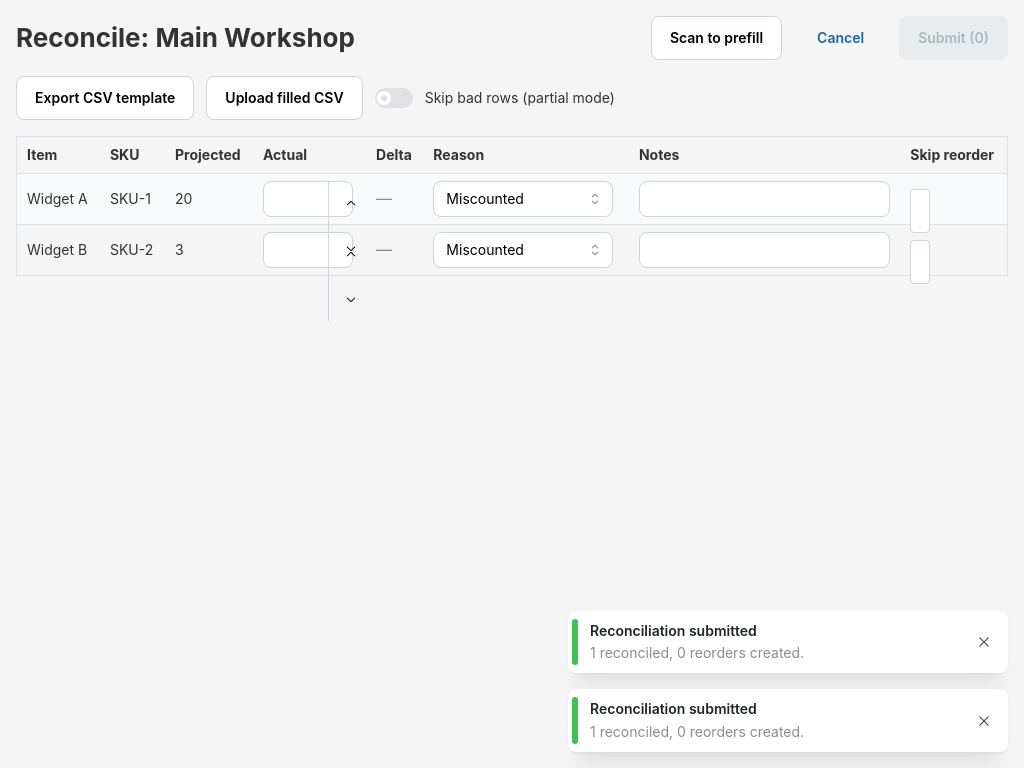
Test case: InventoryReconciliationPage › surfaces an error and keeps counts when the submit fails offline
Check: the text "Widget A" is shown, box [16,173,100,224]
Type "18" into the field named "Actual count for Widget A" at (308, 199), box [263,181,353,217]
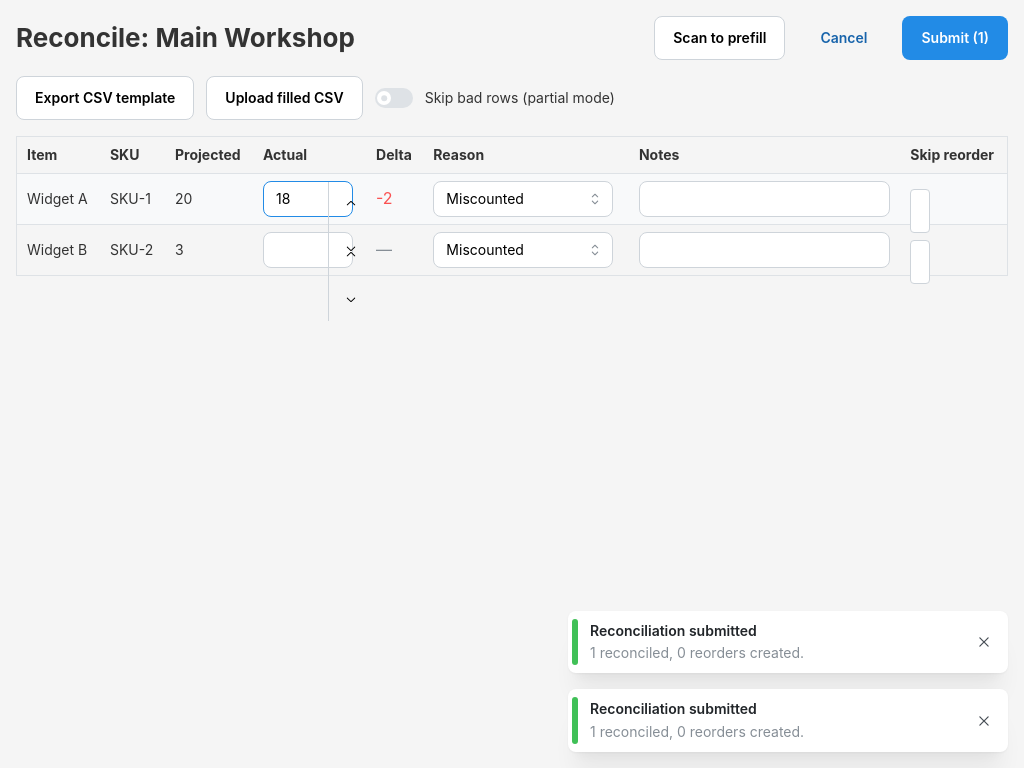
Click the button with test id "submit-reconciliation" at (955, 38), box [902,16,1008,60]
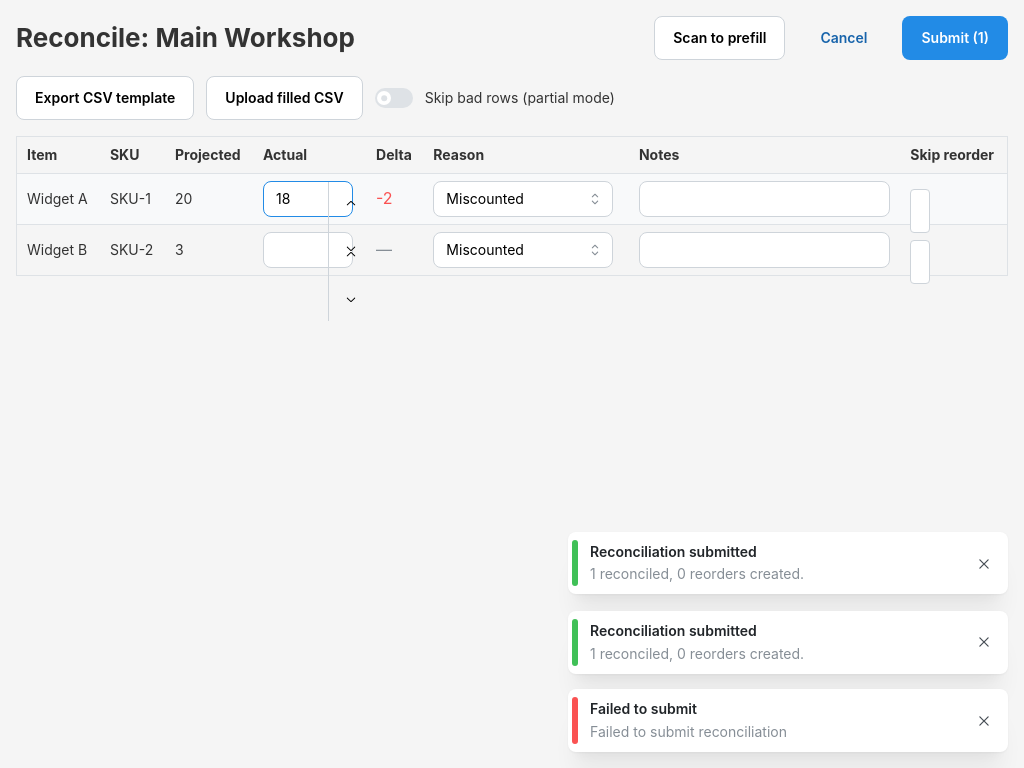
Check: the button with test id "submit-reconciliation" is enabled, box [902,16,1008,60]
Check: the text "Failed to submit reconciliation" is shown, box [590,723,787,740]
